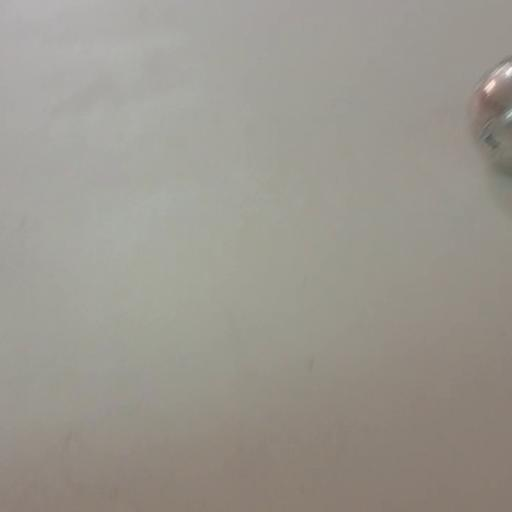alive: (462, 52, 512, 176)
